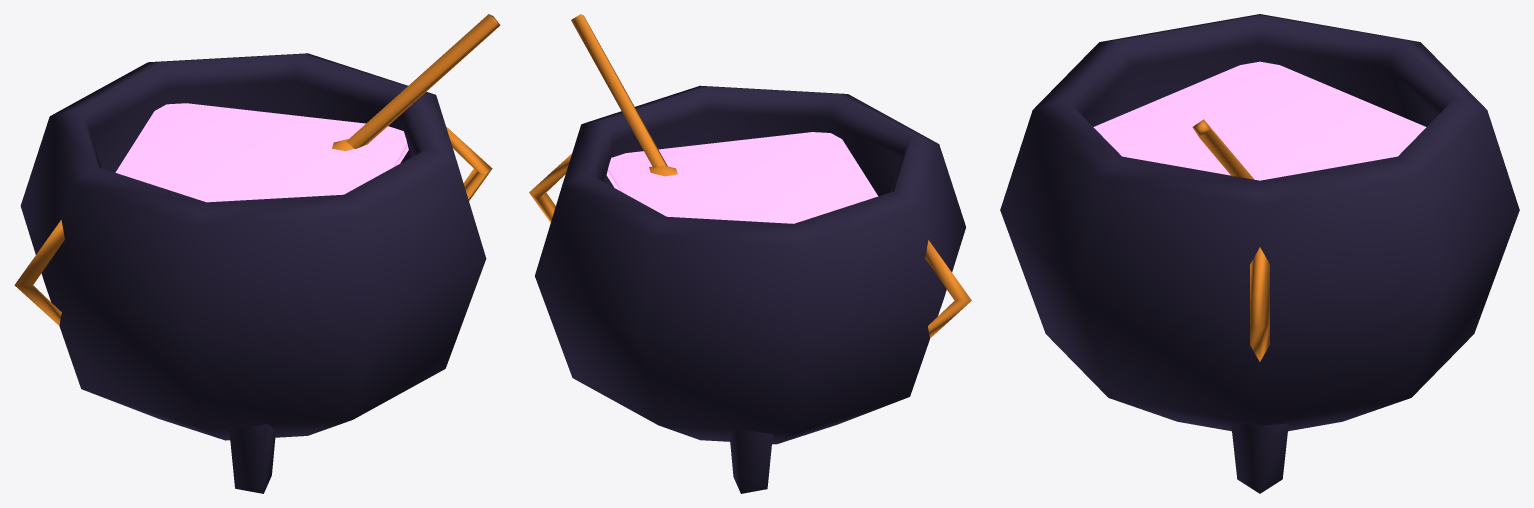
Rendered from cauldron_low.glb.
3 renders of one model, left to right at view 1: azimuth 30°, elevation 25°; view 2: azimuth 150°, elevation 25°; view 3: azimuth 270°, elevation 25°, orthographic. The views are drawn at different scales.
Size of the model in its own units: 0.916 by 0.7002 by 0.8.
